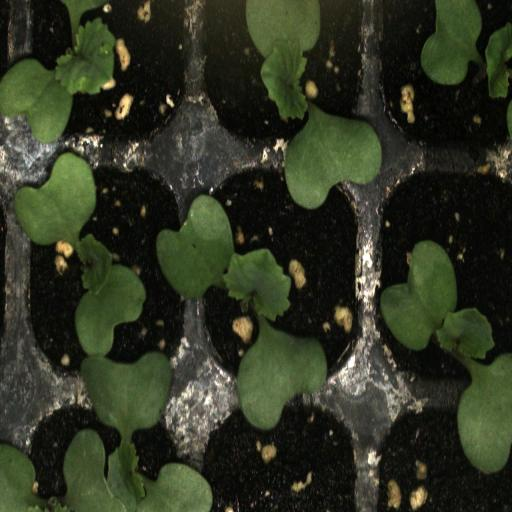Germinacao: (193, 153, 374, 409), (16, 147, 198, 385), (372, 154, 512, 400), (18, 0, 197, 151), (197, 0, 375, 149), (15, 385, 195, 512), (375, 0, 512, 150)
